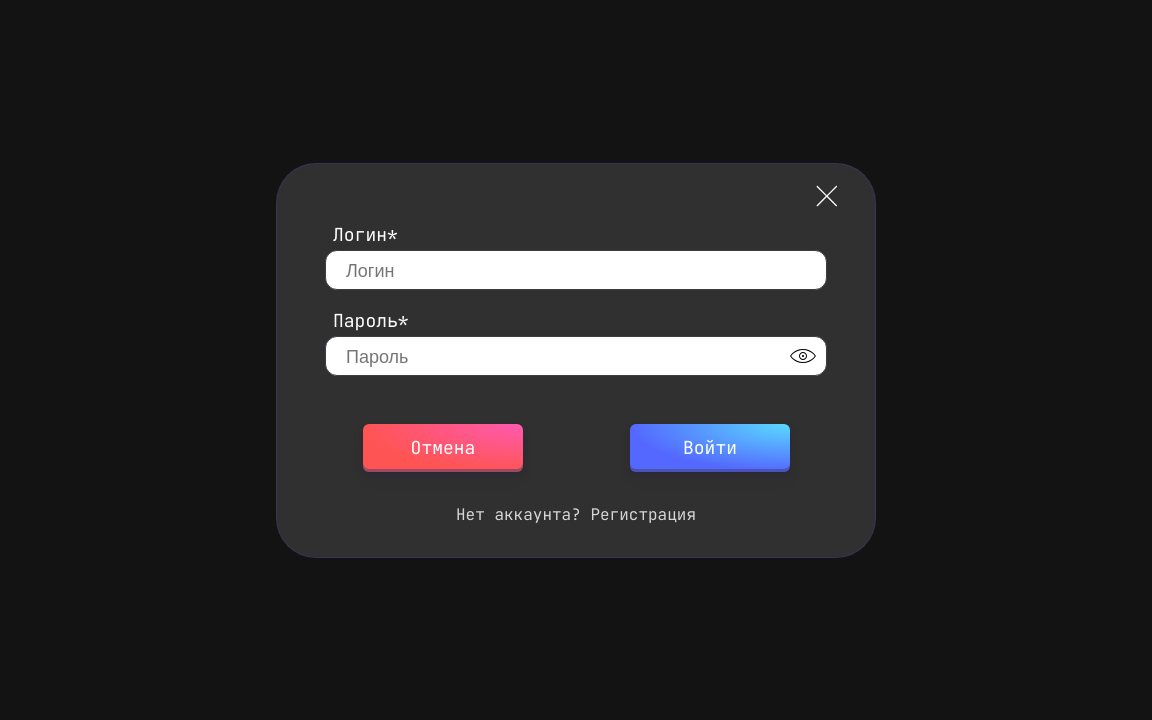
Test: AuthModal component tests › AuthModal change from login to register
This screenshot has width=1152, height=720.
Click the element with test id "login-register-switch" at (576, 514), box [456,504,696,524]
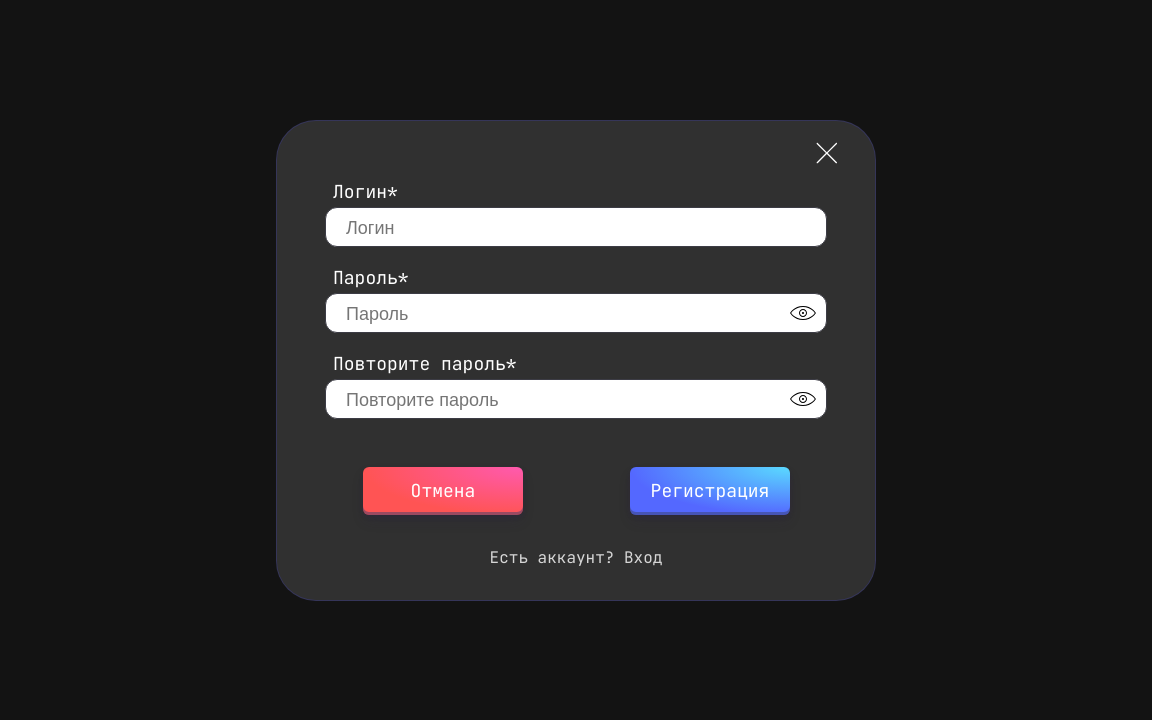
Now the button "Регистрация" is shown, box [630,466,790,514]
